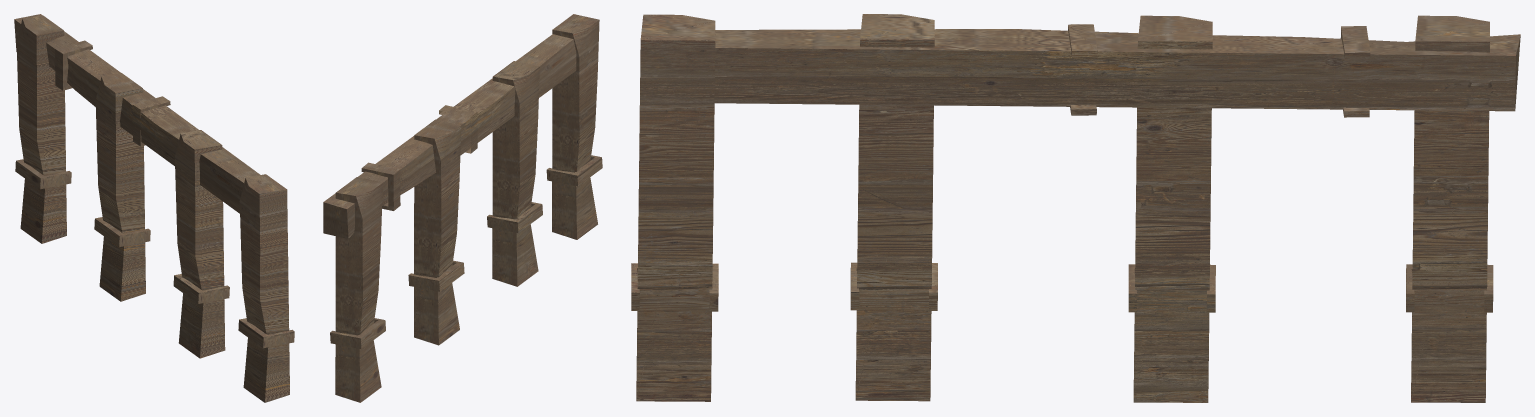
File: OU_AR_House_Railing_04_D.fbx
3 renders of one model, left to right at view 1: azimuth 30°, elevation 25°; view 2: azimuth 150°, elevation 25°; view 3: azimuth 270°, elevation 25°, orthographic. The views are drawn at different scales.
Parts seen in each view (by area): view 1: Railing; view 2: Railing; view 3: Railing.
Boxes of the visible parts, x1,y1,x2,y2 form: Railing: (14,14,294,402); Railing: (323,14,602,402); Railing: (631,14,1520,402).
Size of the model in its own units: 25.2 by 143 by 311.
Materials: 1 (1 with a texture image).
